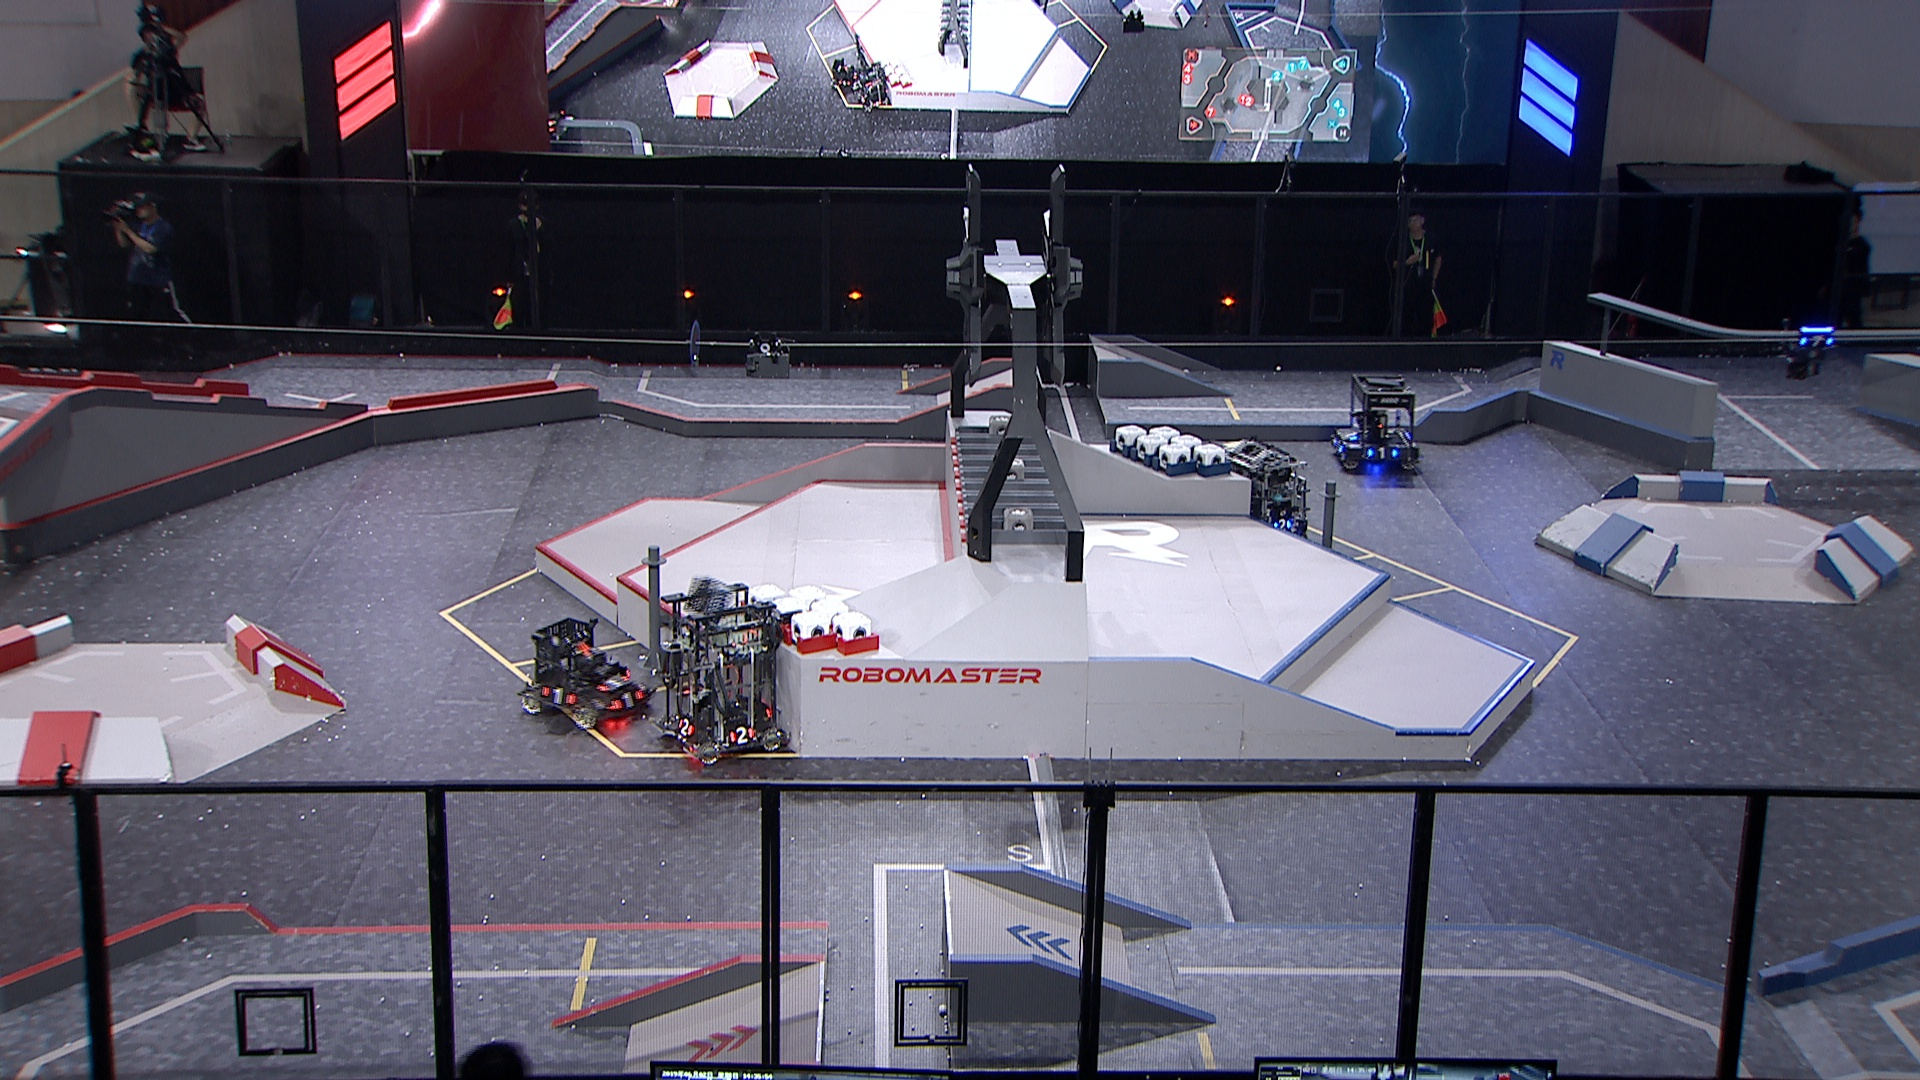armor: (539, 684, 576, 709), (609, 688, 642, 709), (1797, 334, 1833, 349), (727, 725, 754, 745), (595, 675, 626, 692), (1367, 446, 1399, 462), (673, 717, 698, 736), (1271, 517, 1294, 531), (1342, 427, 1364, 442), (1329, 438, 1346, 455)
car: (651, 582, 790, 766), (514, 616, 659, 732), (1207, 436, 1313, 550), (1324, 371, 1427, 471)
ignore: (855, 65, 893, 111), (545, 109, 580, 142), (832, 59, 858, 88)
watcher: (1778, 314, 1840, 381)
